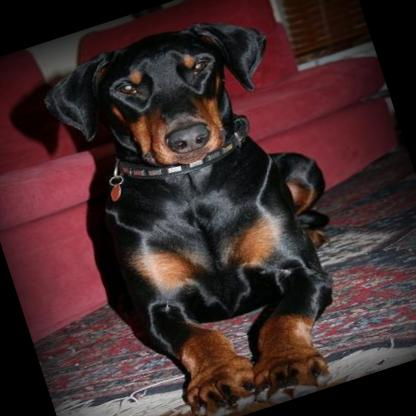Doberman: (30, 0, 386, 416)
